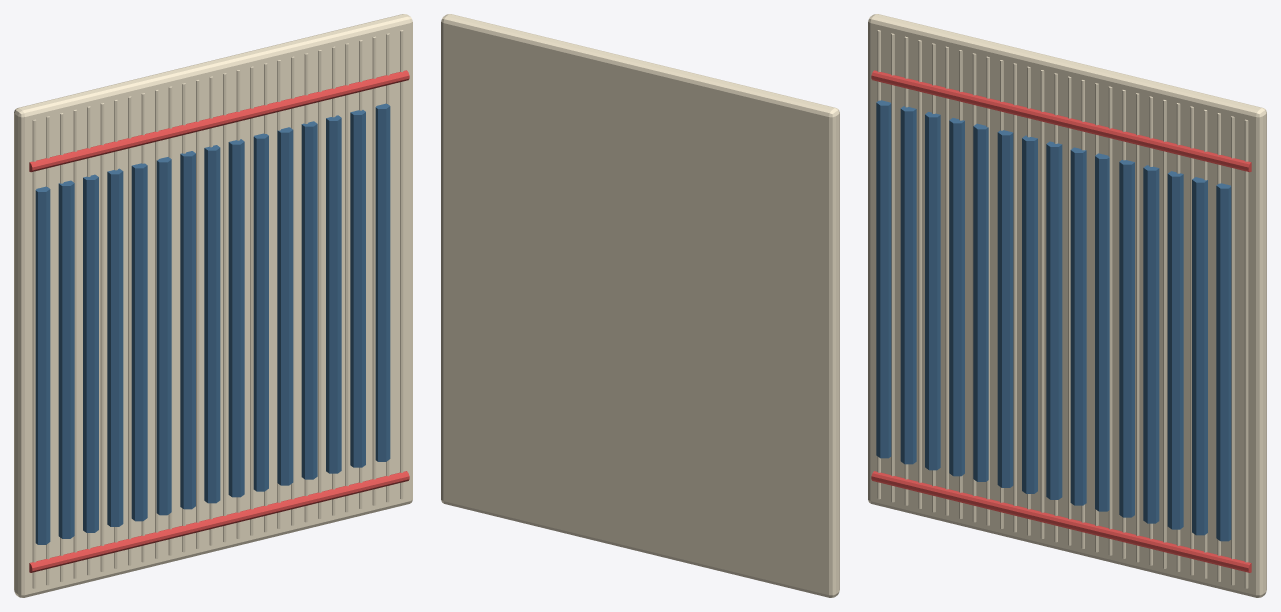
The model's file is buyo_folk_tenugui.glb.
3 views of the same model, side by side, from view 1: azimuth 30°, elevation 25°; view 2: azimuth 150°, elevation 25°; view 3: azimuth 330°, elevation 25° (orthographic).
Parts seen in each view (by area): view 1: Woven tenugui stage clothcloth, Repeating blue tenugui pattern.004, Repeating blue tenugui pattern.008, Repeating blue tenugui pattern.007, Repeating blue tenugui pattern.011, Repeating blue tenugui pattern.010, Repeating blue tenugui pattern.001, Repeating blue tenugui pattern.003, Repeating blue tenugui pattern.005, Repeating blue tenugui pattern.006, Repeating blue tenugui pattern.009, Repeating blue tenugui pattern.013 (+20 smaller); view 2: Woven tenugui stage clothcloth; view 3: Woven tenugui stage clothcloth, Repeating blue tenugui pattern.012, Repeating blue tenugui pattern.001, Repeating blue tenugui pattern.008, Repeating blue tenugui pattern.005, Repeating blue tenugui pattern.007, Repeating blue tenugui pattern.011, Repeating blue tenugui pattern, Repeating blue tenugui pattern.014, Repeating blue tenugui pattern.003, Repeating blue tenugui pattern.002, Repeating blue tenugui pattern.013 (+20 smaller).
Part boxes in pixels (x1,y1,x2,y2): Woven tenugui stage clothcloth: [14, 14, 412, 597]; Repeating blue tenugui pattern.004: [131, 163, 147, 521]; Repeating blue tenugui pattern.008: [228, 139, 244, 497]; Repeating blue tenugui pattern.007: [204, 145, 220, 503]; Repeating blue tenugui pattern.011: [301, 121, 317, 479]; Repeating blue tenugui pattern.010: [277, 127, 293, 485]; Repeating blue tenugui pattern.001: [58, 180, 74, 538]; Repeating blue tenugui pattern.003: [107, 168, 123, 526]; Repeating blue tenugui pattern.005: [156, 157, 171, 515]; Repeating blue tenugui pattern.006: [180, 151, 195, 509]; Repeating blue tenugui pattern.009: [253, 133, 268, 491]; Repeating blue tenugui pattern.013: [350, 110, 365, 467]; Woven tenugui stage clothcloth: [441, 14, 839, 597]; Woven tenugui stage clothcloth: [868, 14, 1266, 597]; Repeating blue tenugui pattern.012: [1167, 171, 1183, 529]; Repeating blue tenugui pattern.001: [900, 106, 916, 464]; Repeating blue tenugui pattern.008: [1070, 147, 1086, 505]; Repeating blue tenugui pattern.005: [997, 130, 1013, 487]; Repeating blue tenugui pattern.007: [1046, 141, 1062, 499]; Repeating blue tenugui pattern.011: [1143, 165, 1159, 523]; Repeating blue tenugui pattern: [876, 100, 891, 458]; Repeating blue tenugui pattern.014: [1216, 183, 1231, 541]; Repeating blue tenugui pattern.003: [949, 118, 964, 476]; Repeating blue tenugui pattern.002: [925, 112, 940, 470]; Repeating blue tenugui pattern.013: [1192, 177, 1207, 535].
Size of the model in its own units: 1.65 by 1.95 by 0.1029.
